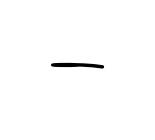minus: (50, 61, 104, 69)
